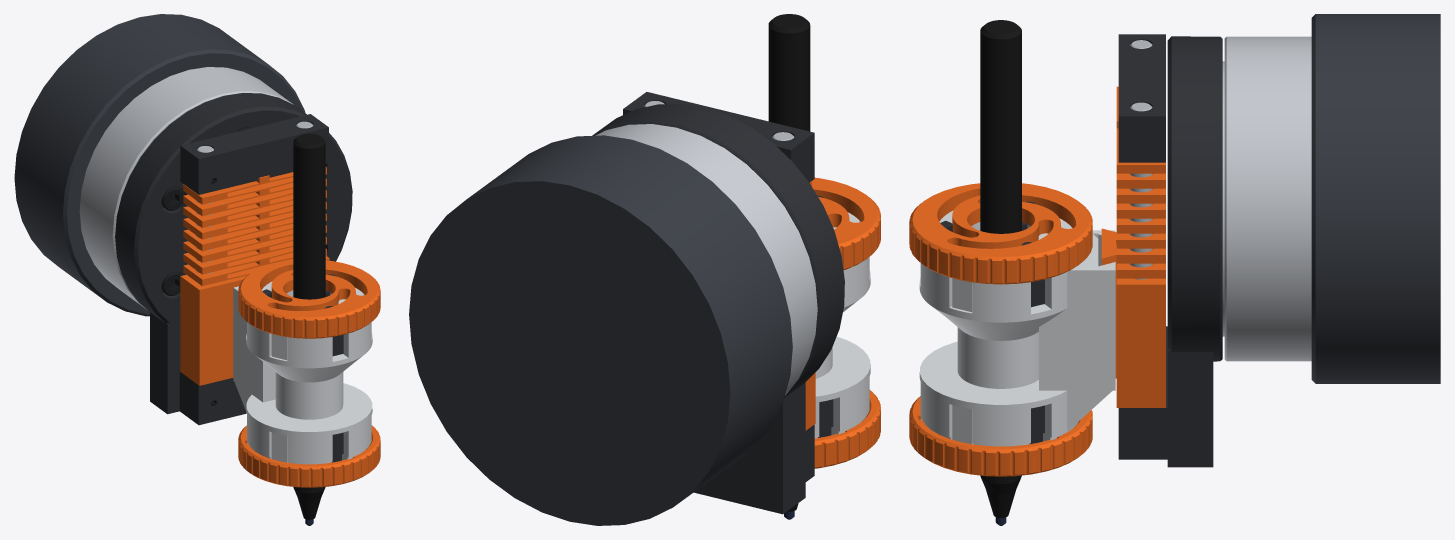
Rendered from Quick-Change v2 Leaf - Assembly.glb.
3 renders of one model, left to right at view 1: azimuth 30°, elevation 25°; view 2: azimuth 150°, elevation 25°; view 3: azimuth 270°, elevation 25°, orthographic. The views are drawn at different scales.
Visible parts, largest first — view 1: UTRA 6-1000 J6 housing (ref), Base, Cartridge body, UTRA 6-1000 tool flange (ref), Bow-spring stack, Twist ring (upper), Top cap, Gel pen 11 mm barrel, Carriage, Twist ring (lower), Gel pen 11 mm front, M5x12 SHCS 6; view 2: UTRA 6-1000 J6 housing (ref), Base, UTRA 6-1000 tool flange (ref), Cartridge body, Gel pen 11 mm barrel, Twist ring (upper), Top cap, Twist ring (lower), Carriage; view 3: UTRA 6-1000 J6 housing (ref), Cartridge body, UTRA 6-1000 tool flange (ref), Base, Twist ring (upper), Gel pen 11 mm barrel, Carriage, Twist ring (lower), Top cap, Bow-spring stack, Gel pen 11 mm front, Rod R.
Boxes of the visible parts, x1,y1,x2,y2 form: UTRA 6-1000 J6 housing (ref): (14, 14, 305, 316); Base: (115, 93, 352, 425); Cartridge body: (233, 281, 372, 464); UTRA 6-1000 tool flange (ref): (79, 67, 293, 309); Bow-spring stack: (183, 167, 326, 286); Twist ring (upper): (238, 260, 380, 338); Top cap: (180, 114, 328, 194); Gel pen 11 mm barrel: (293, 133, 325, 493); Carriage: (180, 256, 329, 385); Twist ring (lower): (238, 425, 380, 487); Gel pen 11 mm front: (294, 489, 324, 519); M5x12 SHCS 6: (161, 186, 184, 210); UTRA 6-1000 J6 housing (ref): (409, 135, 792, 525); Base: (592, 104, 844, 514); UTRA 6-1000 tool flange (ref): (595, 124, 817, 395); Cartridge body: (814, 212, 870, 438); Gel pen 11 mm barrel: (768, 14, 810, 131); Twist ring (upper): (811, 177, 880, 270); Top cap: (623, 92, 814, 182); Twist ring (lower): (814, 390, 880, 468); Carriage: (805, 372, 815, 430); UTRA 6-1000 J6 housing (ref): (1311, 14, 1440, 383); Cartridge body: (919, 210, 1115, 446); UTRA 6-1000 tool flange (ref): (1222, 36, 1311, 361); Base: (1118, 36, 1222, 467); Twist ring (upper): (909, 183, 1092, 284); Gel pen 11 mm barrel: (980, 20, 1021, 483); Carriage: (1101, 228, 1165, 407); Twist ring (lower): (909, 396, 1092, 476); Top cap: (1118, 34, 1165, 162); Bow-spring stack: (1116, 86, 1165, 278); Gel pen 11 mm front: (981, 478, 1020, 517); Rod R: (1130, 102, 1152, 279).
Bounding box in the file's own units: 0.098 × 0.145 × 0.1402.
